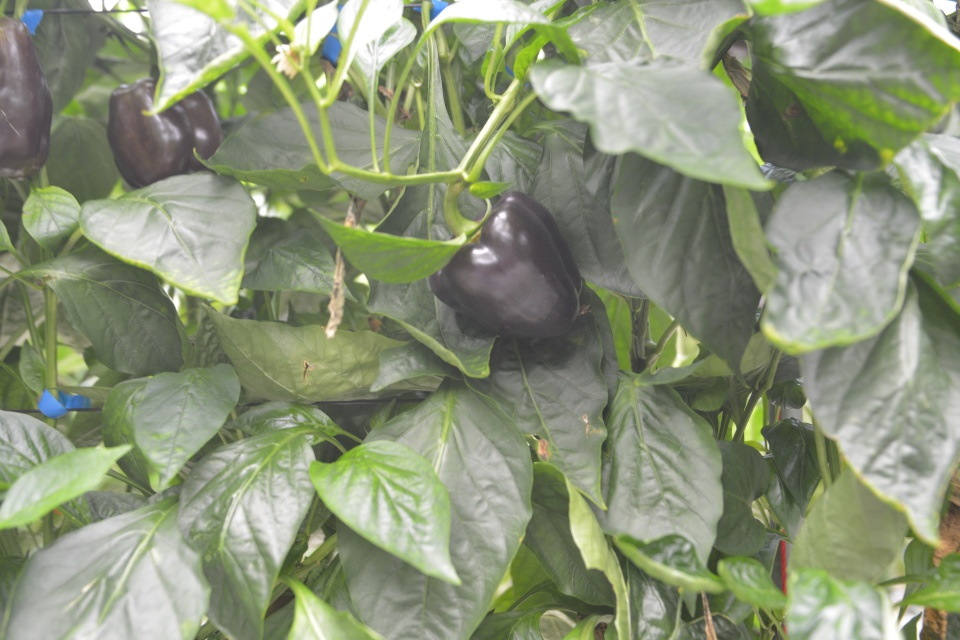flower: (270, 41, 303, 80)
fruit: (427, 189, 588, 348), (104, 76, 224, 192), (1, 13, 51, 184)
